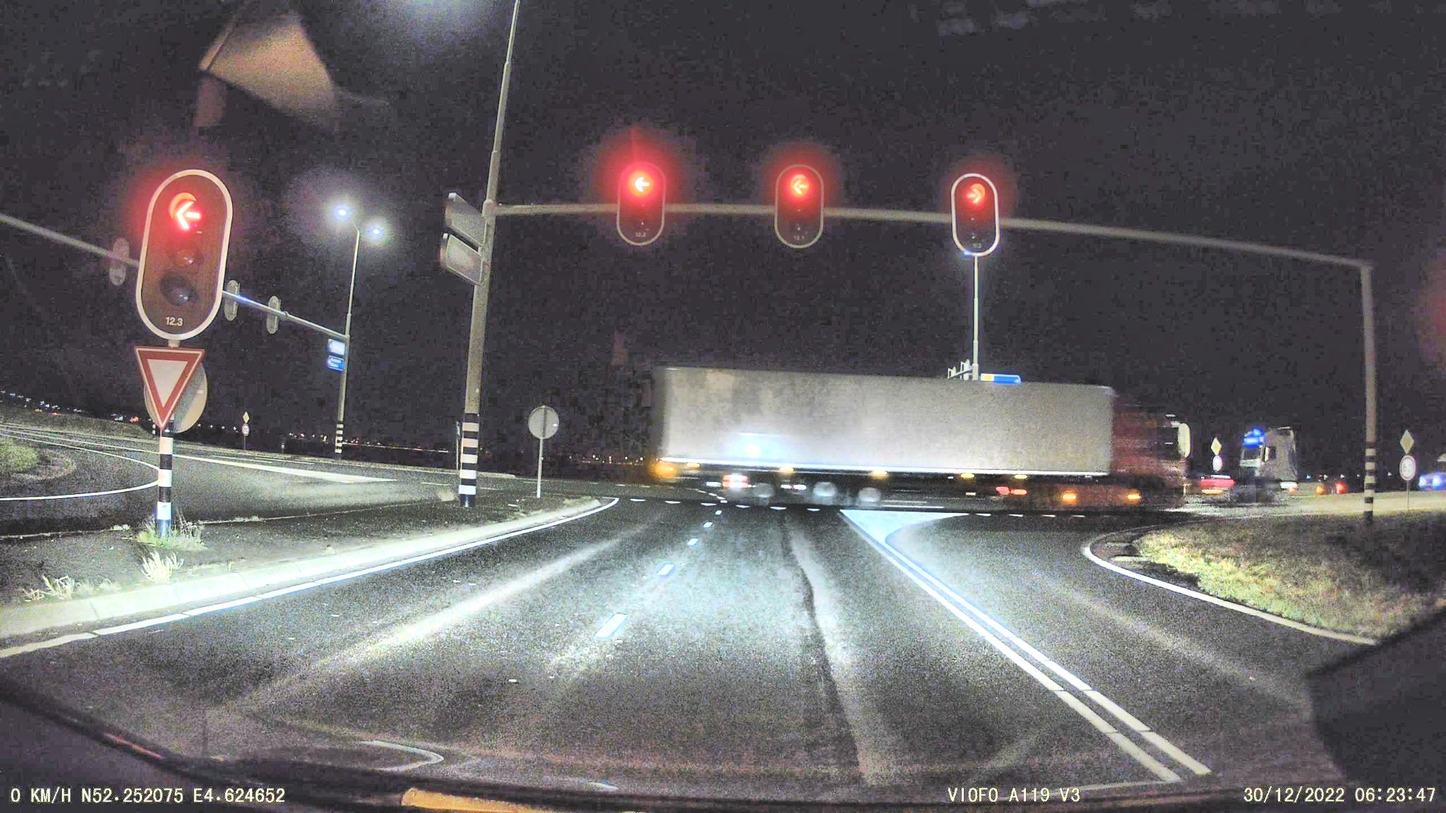Roads: (0, 500, 1446, 813)
